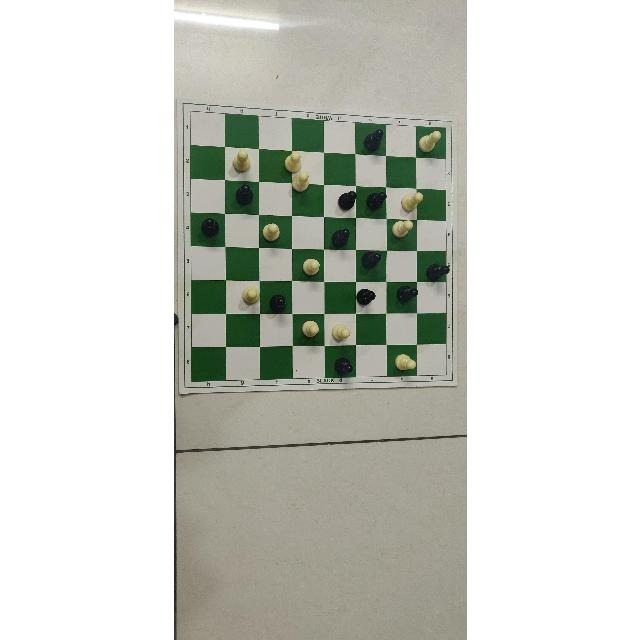black-pawn: (422, 260, 452, 286), (362, 128, 384, 154), (365, 190, 387, 216), (329, 226, 351, 252), (396, 282, 418, 307), (336, 189, 358, 213), (233, 183, 255, 206), (331, 354, 354, 375), (360, 250, 381, 272), (199, 216, 219, 239), (355, 287, 374, 306), (268, 294, 286, 313)
white-pawn: (416, 127, 441, 153), (229, 150, 252, 174), (399, 191, 423, 213), (391, 219, 413, 241), (392, 353, 415, 373), (282, 149, 301, 172), (261, 220, 281, 241), (288, 173, 311, 191), (330, 322, 350, 342), (239, 284, 259, 303), (301, 256, 319, 276), (302, 318, 320, 337)
